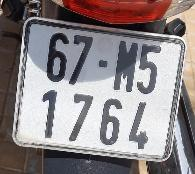1: (39, 91, 58, 141)
4: (127, 95, 150, 153)
5: (137, 44, 162, 96)
6: (99, 93, 125, 149), (44, 32, 69, 86)
7: (68, 34, 98, 87), (66, 92, 95, 145)
M: (113, 38, 141, 95)
